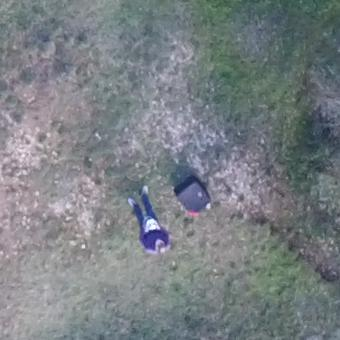human: (125, 183, 171, 253)
